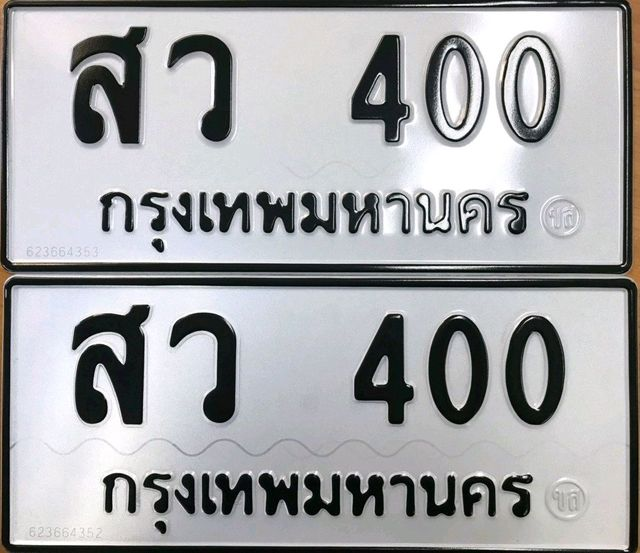Bangkok: (92, 455, 542, 544), (91, 176, 536, 260)
